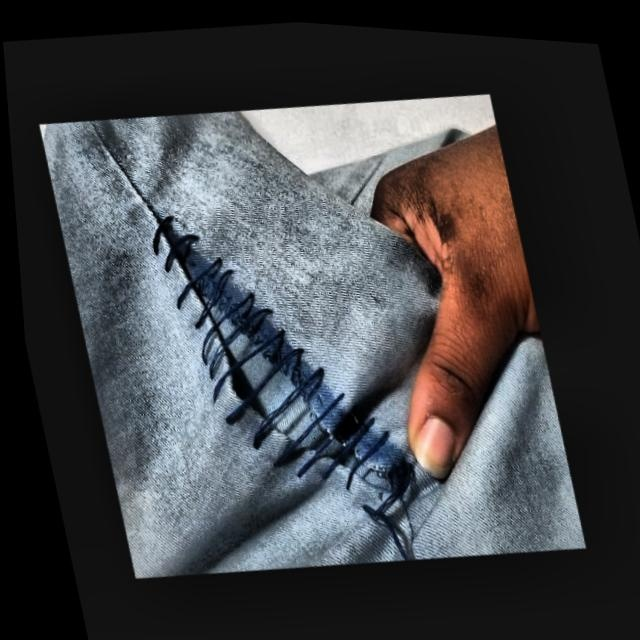Stitch: (93, 157, 447, 578)
